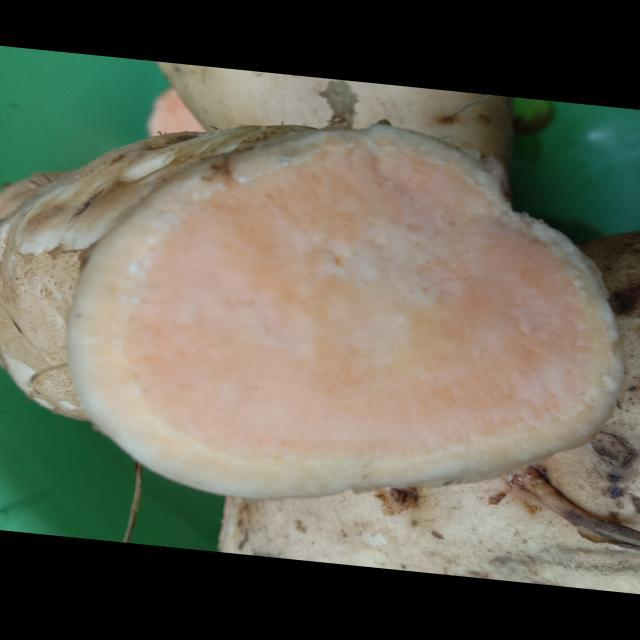Healthy Sweet Potato: (68, 124, 622, 498)
